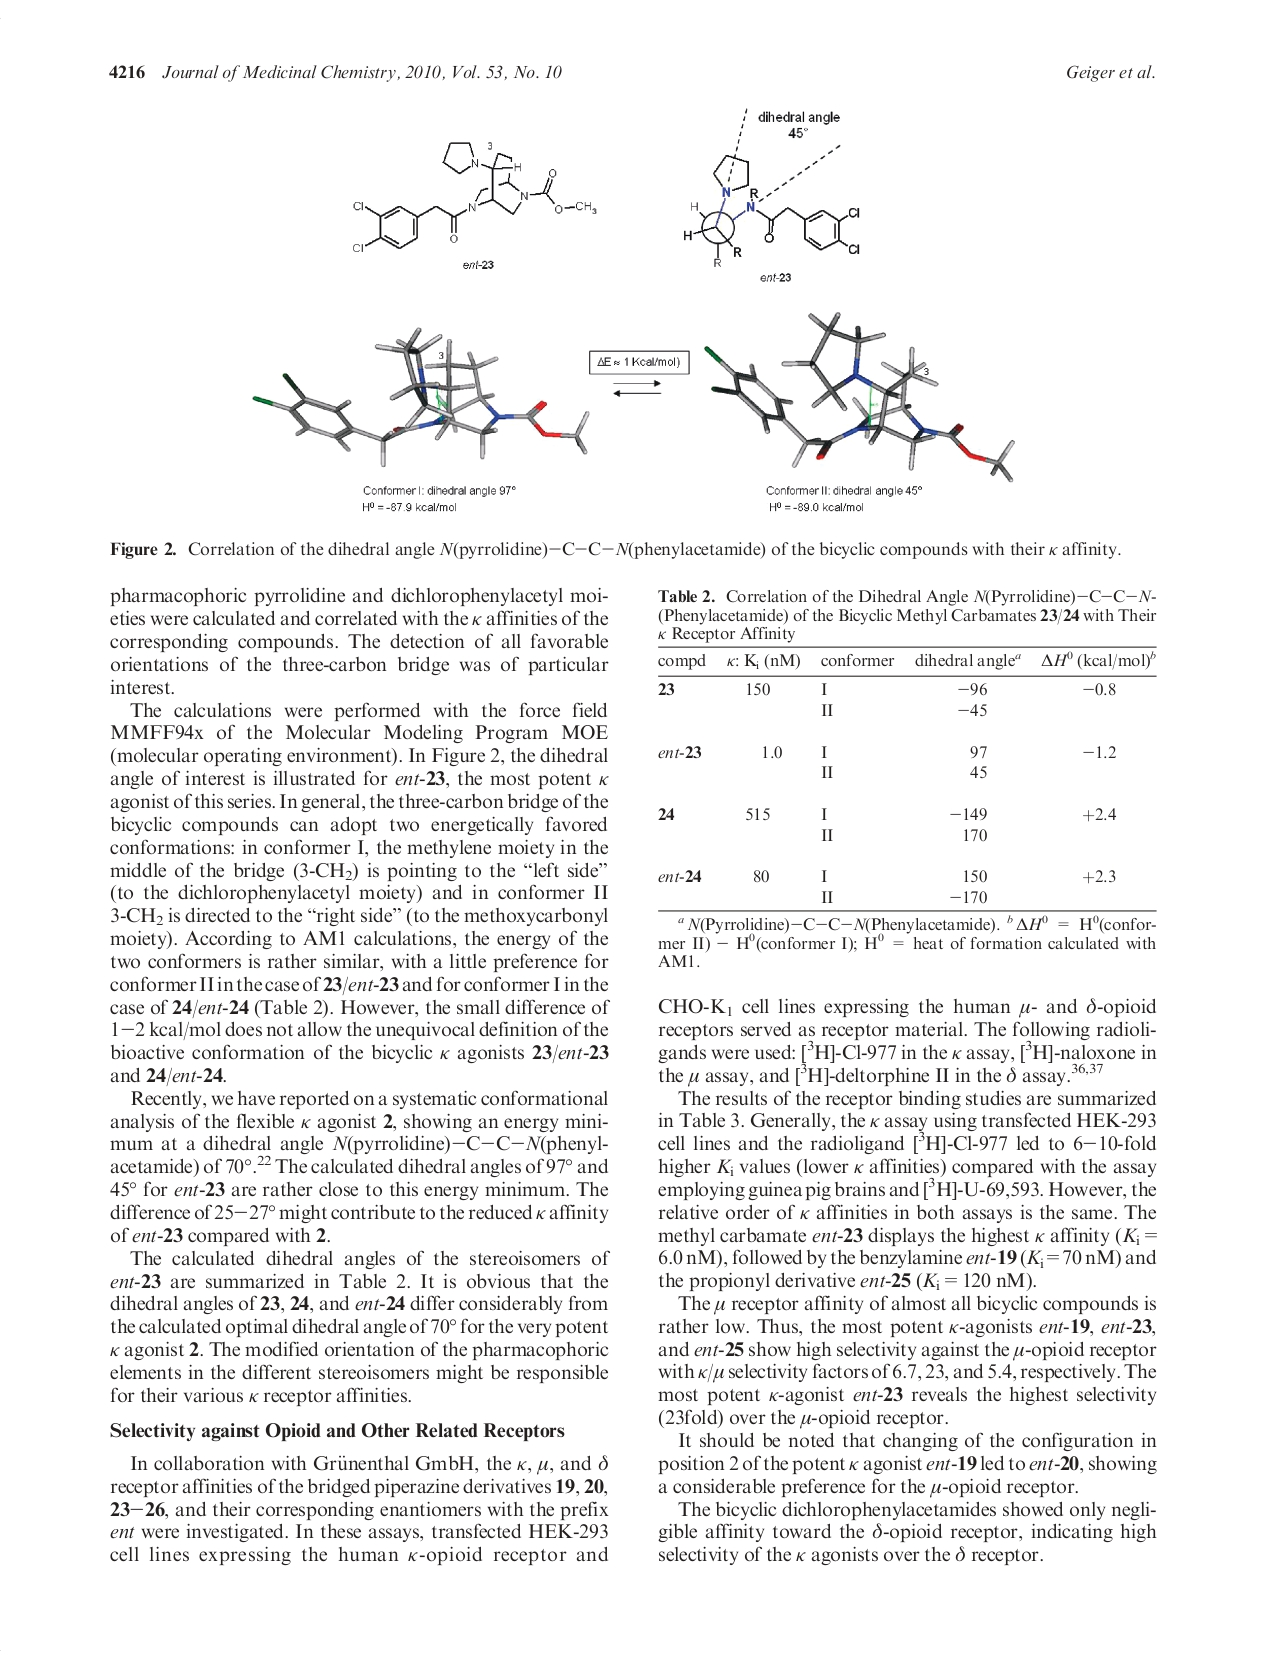exist_molecular: (340, 132, 604, 261), (678, 150, 878, 277)
